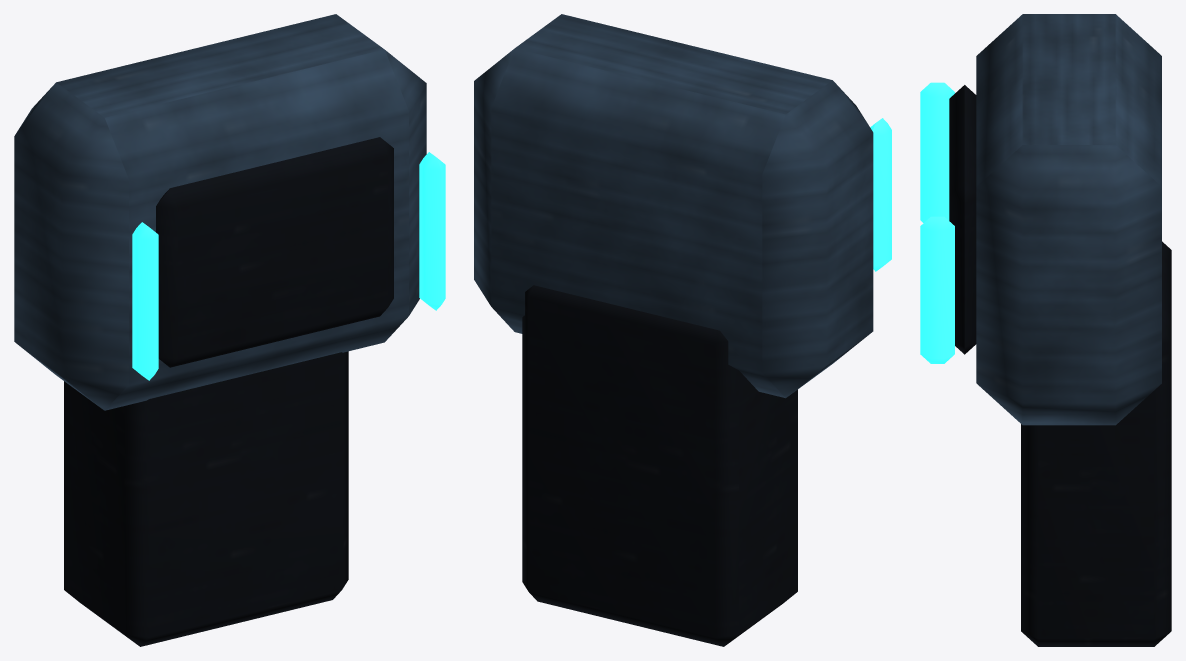
The model's file is shot_relay.glb.
3 renders of one model, left to right at view 1: azimuth 30°, elevation 25°; view 2: azimuth 150°, elevation 25°; view 3: azimuth 270°, elevation 25°, orthographic. The views are drawn at different scales.
Visible parts, largest first — view 1: shot_relay - Recessed iron, shot_relay - Brushed gunmetal, shot_relay - Cool perimeter LEDs; view 2: shot_relay - Brushed gunmetal, shot_relay - Recessed iron, shot_relay - Cool perimeter LEDs; view 3: shot_relay - Brushed gunmetal, shot_relay - Recessed iron, shot_relay - Cool perimeter LEDs.
Boxes of the visible parts, x1=… form: shot_relay - Recessed iron: x1=64, y1=137, x2=393, y2=646; shot_relay - Brushed gunmetal: x1=14, y1=14, x2=426, y2=410; shot_relay - Cool perimeter LEDs: x1=132, y1=152, x2=445, y2=380; shot_relay - Brushed gunmetal: x1=474, y1=14, x2=873, y2=398; shot_relay - Recessed iron: x1=522, y1=285, x2=797, y2=646; shot_relay - Cool perimeter LEDs: x1=870, y1=118, x2=891, y2=271; shot_relay - Brushed gunmetal: x1=976, y1=14, x2=1161, y2=425; shot_relay - Recessed iron: x1=949, y1=85, x2=1171, y2=646; shot_relay - Cool perimeter LEDs: x1=920, y1=82, x2=954, y2=363.
Size of the model in its own units: 1.04 by 1.49 by 0.65.
Materials: 3 (2 with a texture image).
